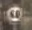limite 60: (4, 3, 24, 24)
